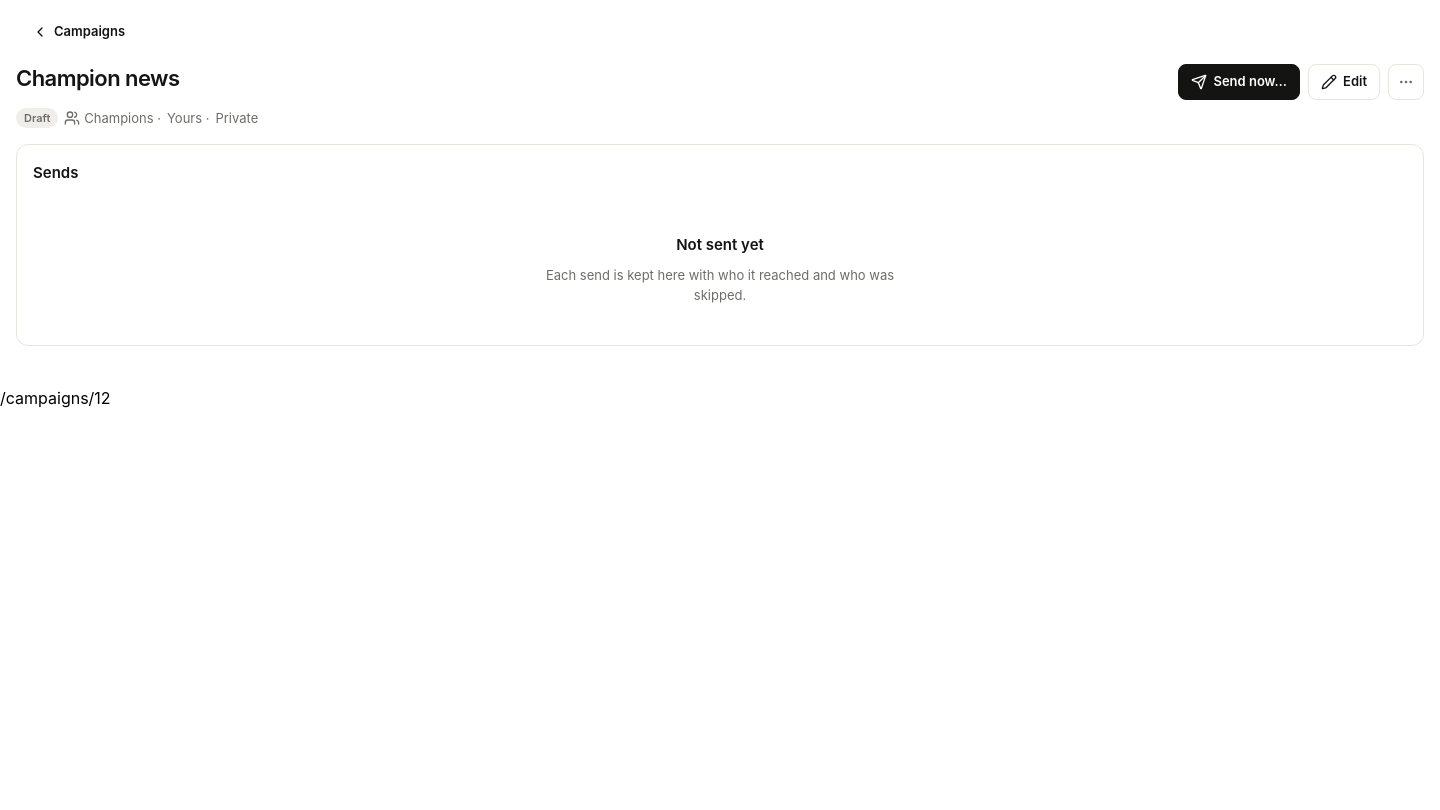
Send now refusals from the campaign page (backend sending._refusal) › keeps "Its owner is no longer active." at the Send button, focused
This screenshot has width=1440, height=810.
Click the button "Send now…" at x=1239, y=82, box [1178,64,1300,100]
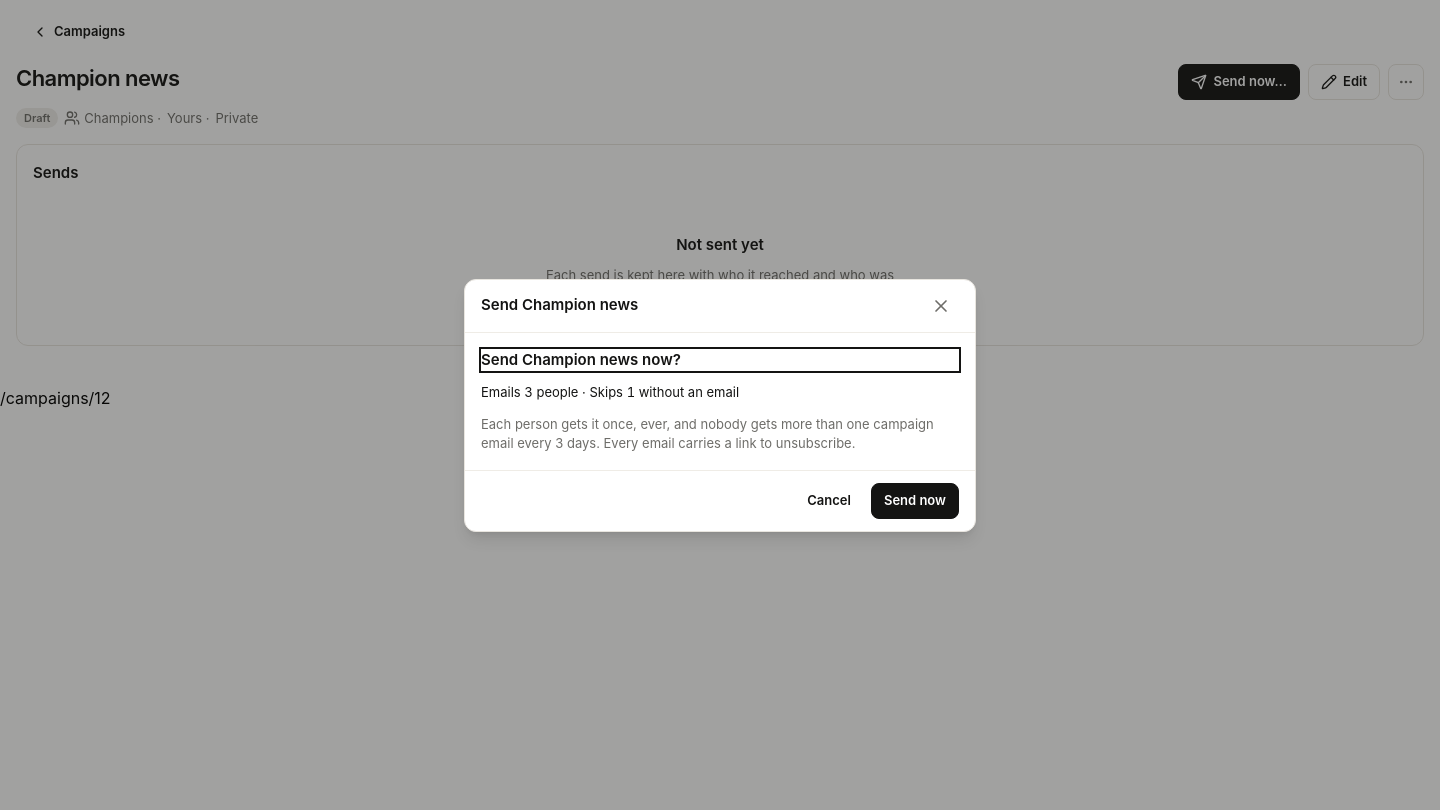
Expected: the heading "Send Champion news now?" is shown, [481,350,681,368]
Click the button "Send now" at x=915, y=500, box [871,482,959,518]
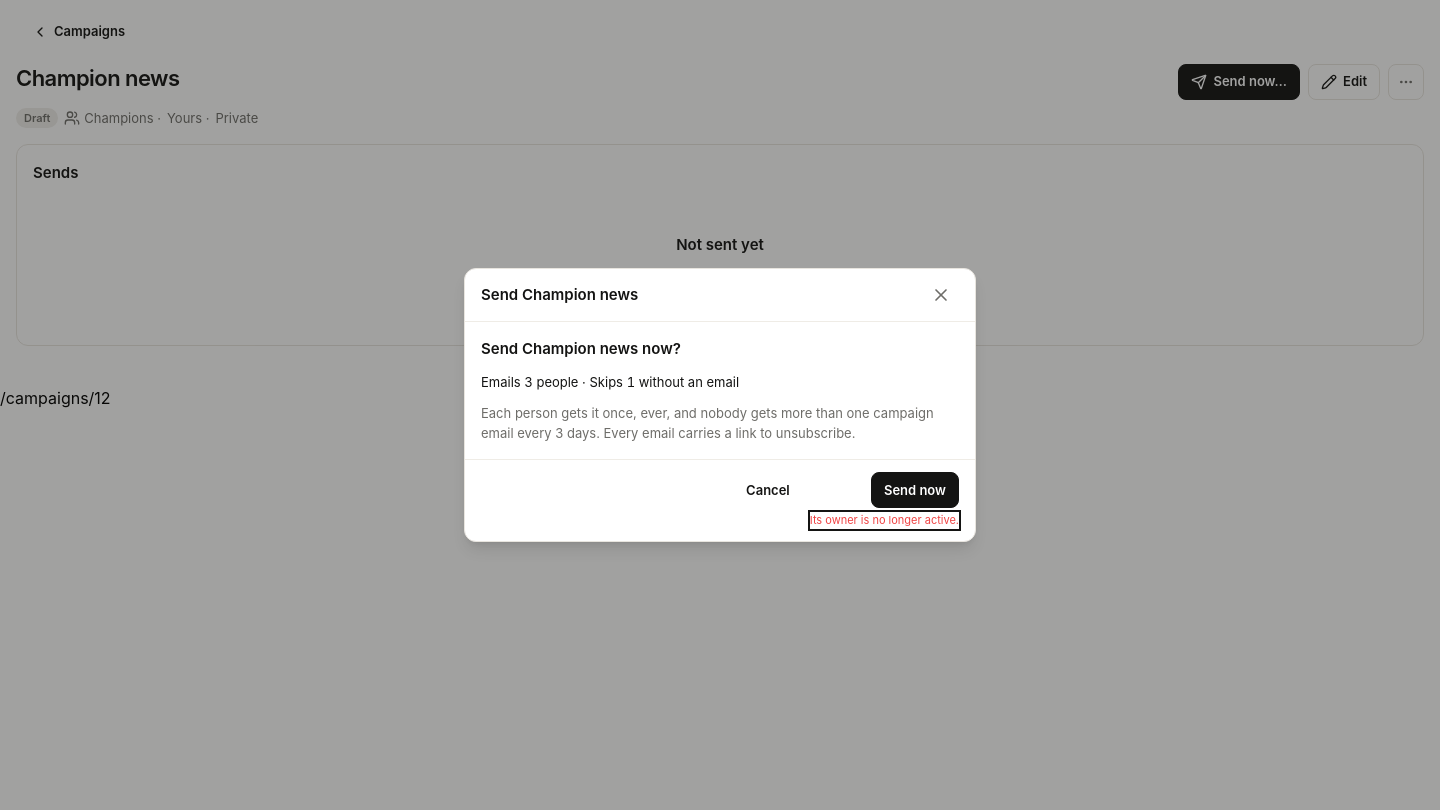
Expected: the message reads "Its owner is no longer active.", [810,513,959,527]
